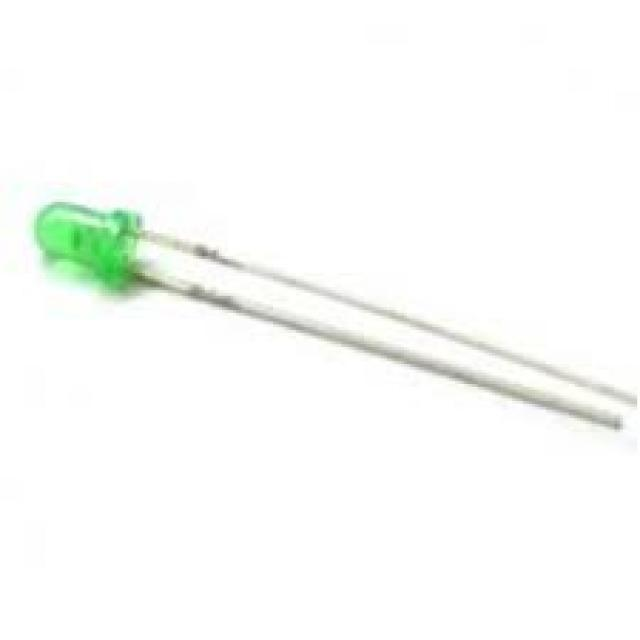Led: (35, 202, 636, 429)
